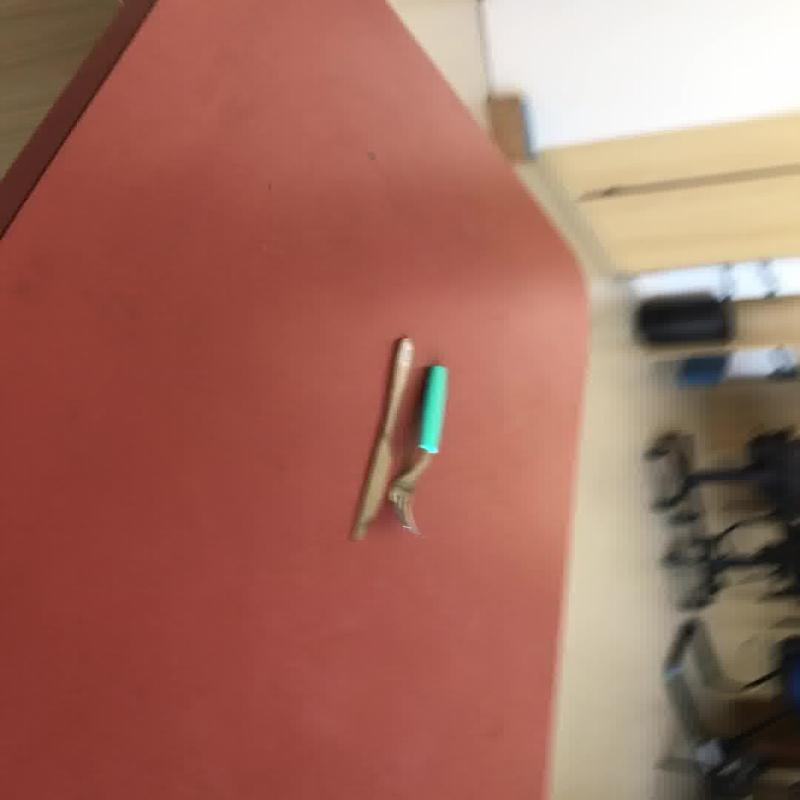fork: (386, 363, 447, 534)
knife: (346, 334, 416, 540)
